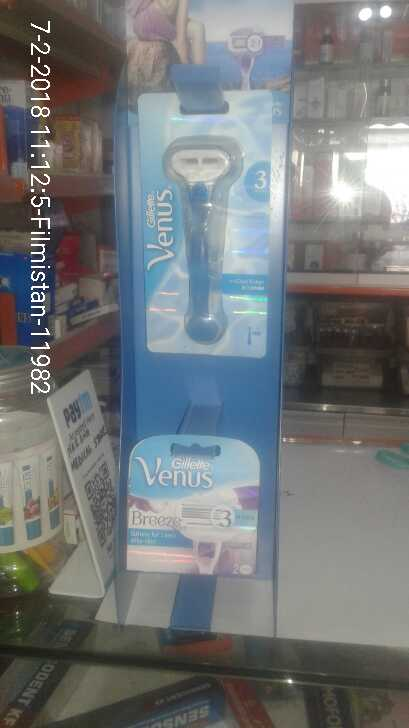venus: (113, 431, 273, 579), (151, 120, 252, 346)
